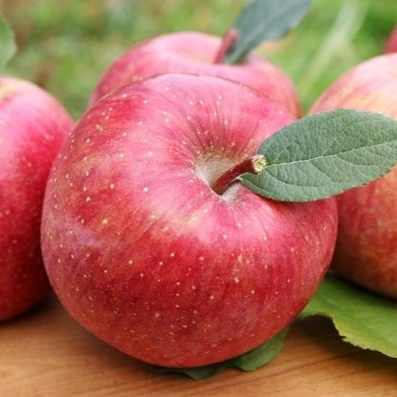apple: (41, 69, 333, 360), (93, 28, 307, 182), (307, 54, 397, 302), (1, 83, 76, 344)
